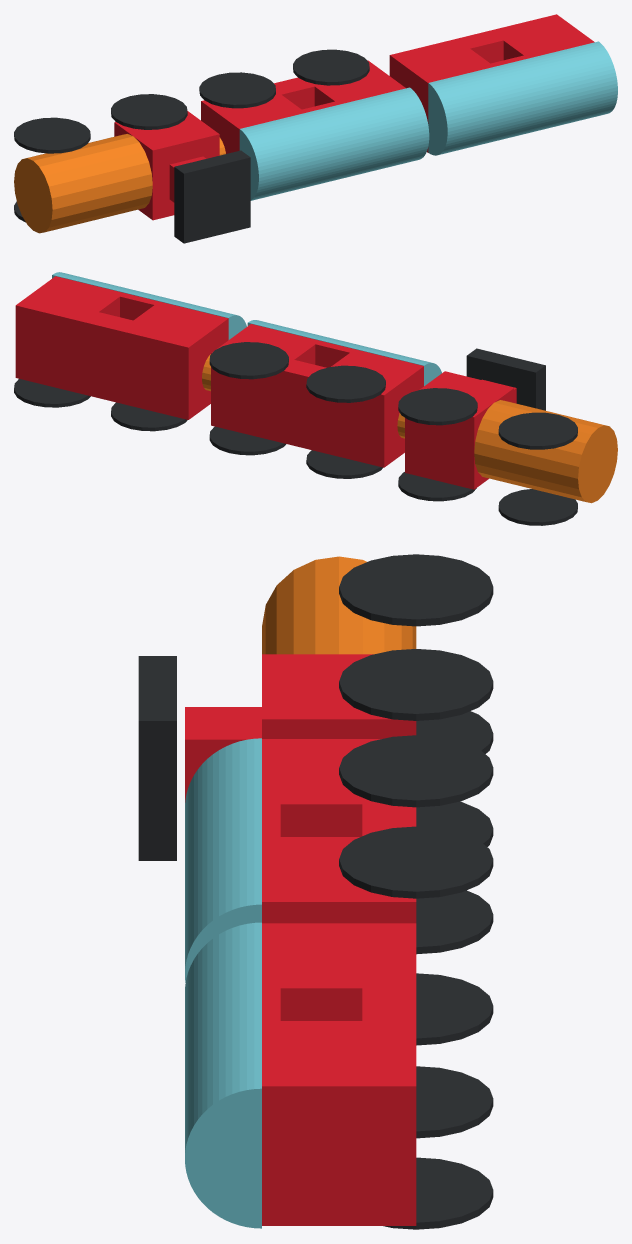
The model's file is tinker.obj.
3 views of the same model, one above another, from view 1: azimuth 30°, elevation 25°; view 2: azimuth 150°, elevation 25°; view 3: azimuth 270°, elevation 25° (orthographic). The views are drawn at different scales.
Parts seen in each view (by area): view 1: group_0_7720667, group_0_15277357, group_0_2829873, group_0_16089887; view 2: group_0_15277357, group_0_2829873, group_0_16089887, group_0_7720667; view 3: group_0_15277357, group_0_2829873, group_0_7720667, group_0_16089887.
Boxes of the visible parts, x1,y1,x2,y2 form: group_0_7720667: (239, 41, 617, 200); group_0_15277357: (114, 14, 594, 220); group_0_2829873: (14, 49, 369, 243); group_0_16089887: (14, 134, 225, 233); group_0_15277357: (15, 276, 516, 489); group_0_2829873: (14, 342, 577, 525); group_0_16089887: (202, 354, 617, 503); group_0_7720667: (52, 272, 441, 385); group_0_15277357: (185, 654, 416, 1225); group_0_2829873: (138, 554, 493, 1229); group_0_7720667: (185, 738, 261, 1228); group_0_16089887: (262, 556, 416, 654).
Size of the model in its own units: 163 by 22 by 46.
